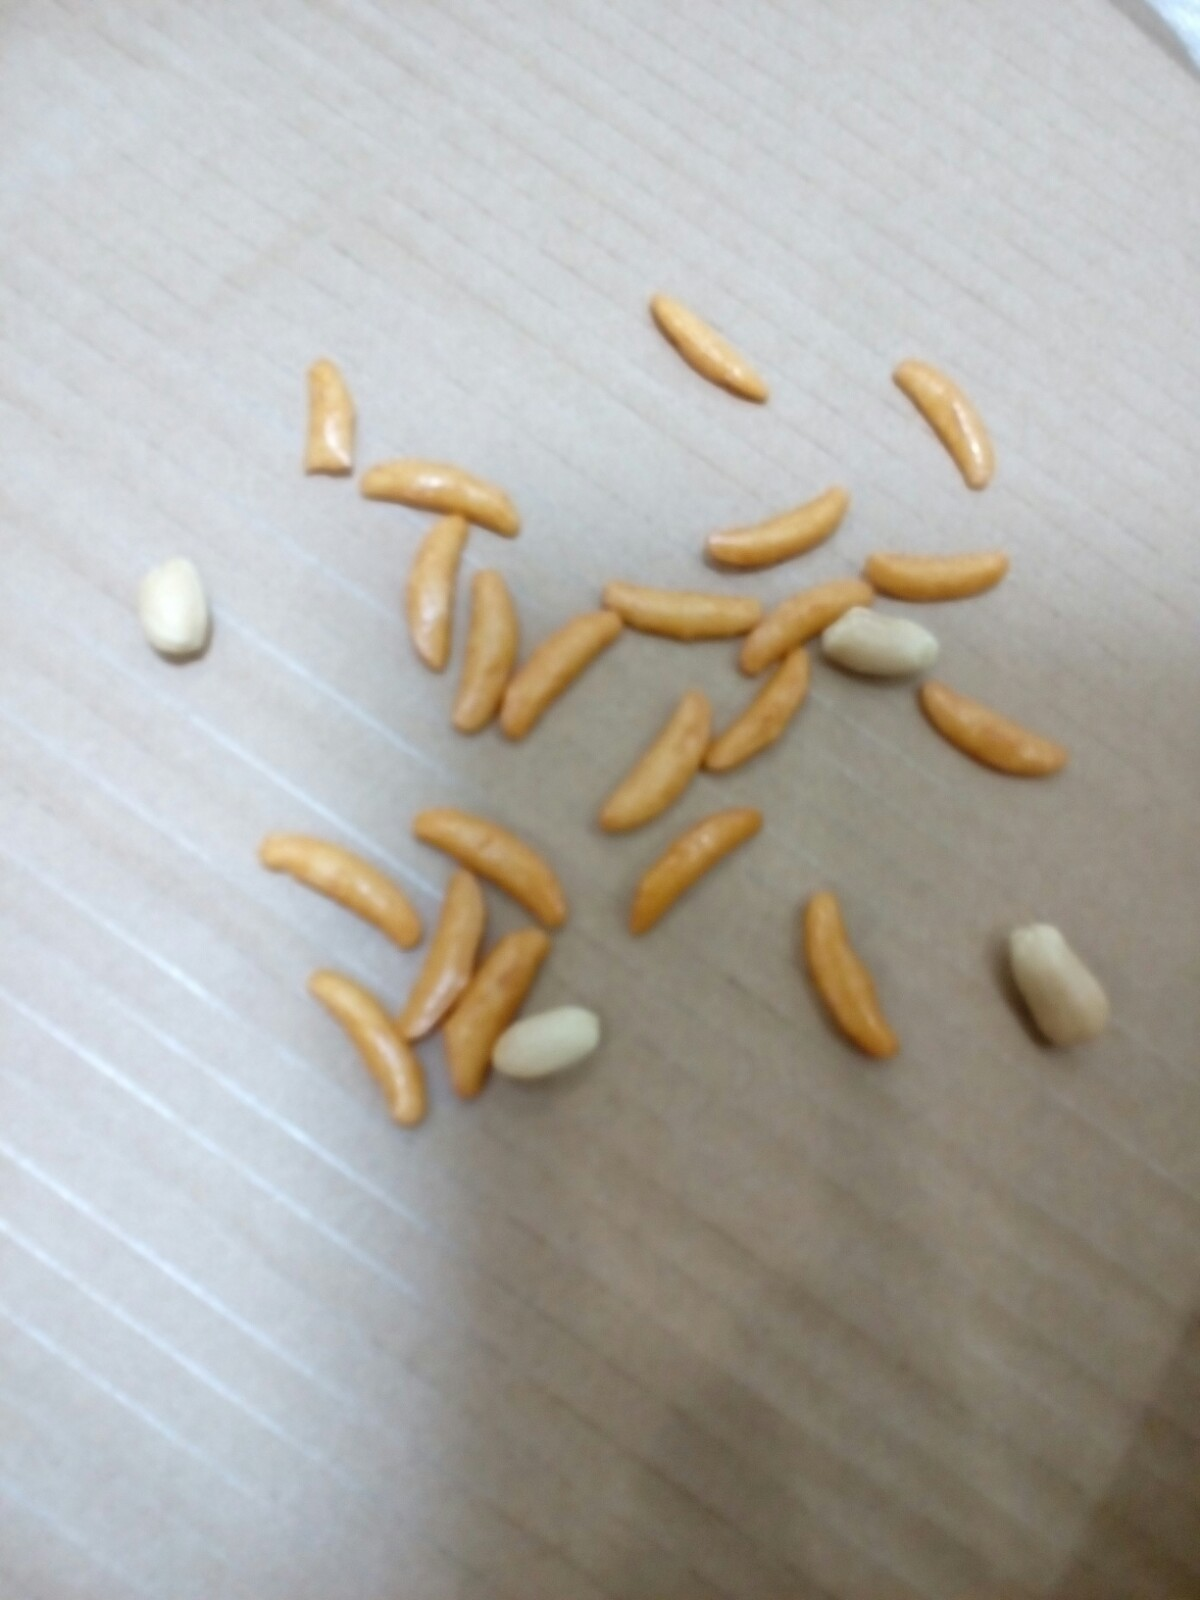peanut: (1003, 916, 1116, 1049), (476, 1002, 616, 1094), (818, 593, 939, 678), (141, 556, 216, 674)
